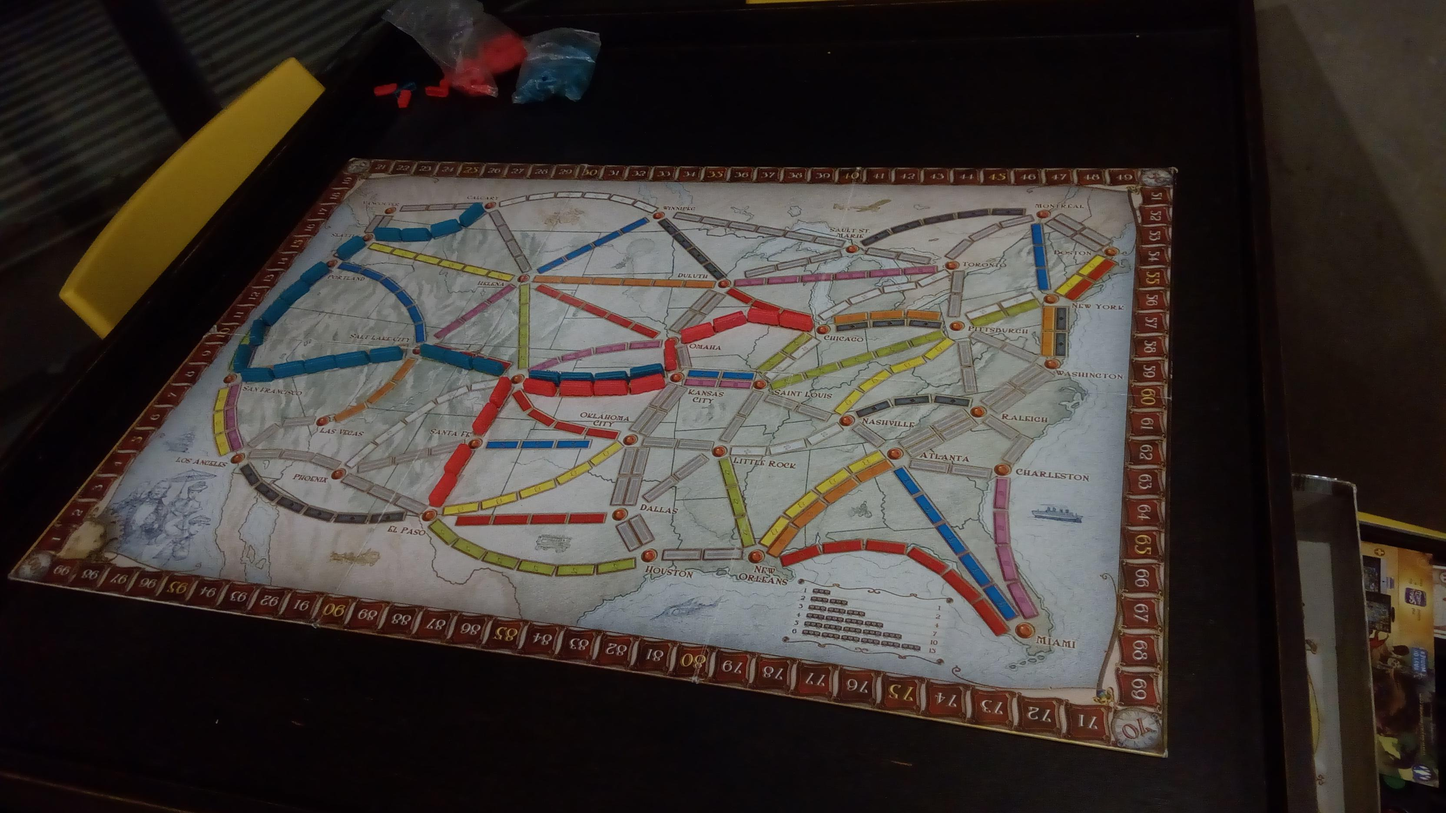blue_train: (262, 298, 289, 326), (279, 281, 309, 305), (335, 236, 365, 259), (472, 356, 506, 376), (300, 262, 329, 285), (429, 219, 463, 238), (457, 203, 483, 226), (444, 350, 473, 370), (304, 355, 336, 373), (368, 346, 404, 362), (232, 344, 253, 371), (335, 351, 368, 368), (272, 361, 304, 378), (421, 343, 448, 363), (629, 363, 664, 378), (249, 318, 266, 346), (241, 367, 273, 381), (400, 227, 431, 241), (530, 370, 561, 384), (374, 226, 402, 241), (594, 371, 628, 381), (560, 372, 594, 381)
red_train: (428, 474, 456, 507), (444, 444, 473, 474), (473, 403, 498, 435), (628, 373, 664, 393), (680, 322, 714, 343), (523, 377, 556, 397), (780, 311, 813, 331), (747, 306, 781, 325), (713, 311, 746, 330), (489, 379, 511, 407), (560, 379, 593, 396), (594, 380, 629, 395), (664, 338, 678, 370)
